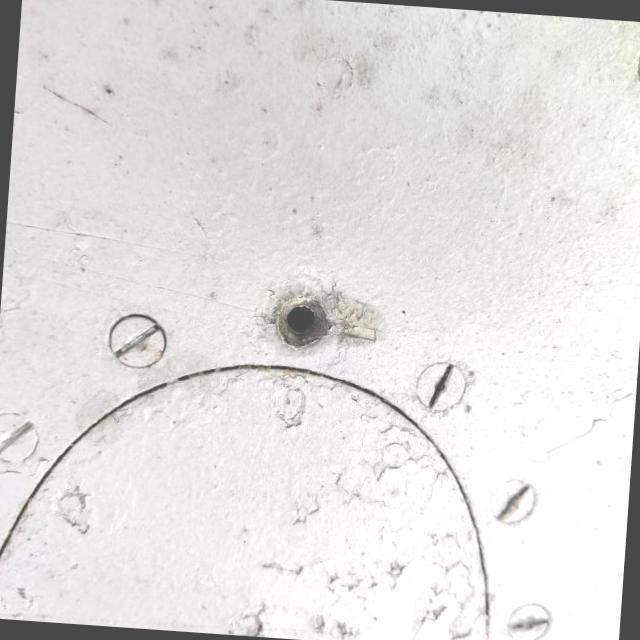Missing Fastener: (262, 282, 340, 359)
